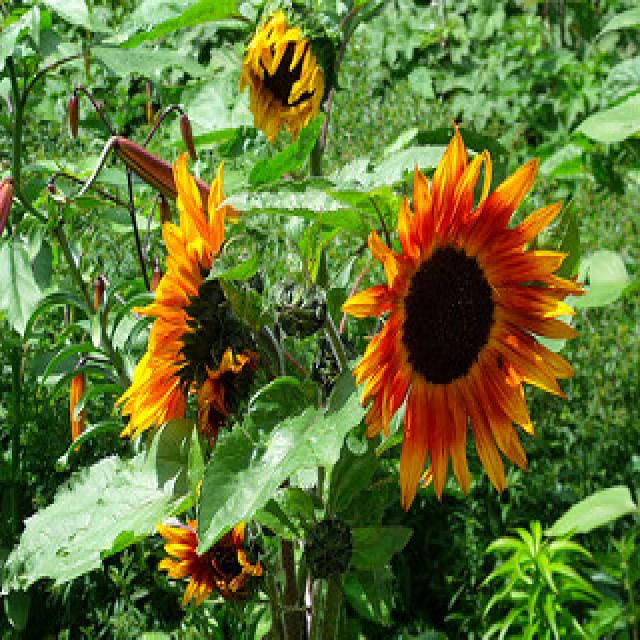sunflower: (346, 121, 576, 501), (118, 154, 256, 450), (240, 14, 330, 147)
